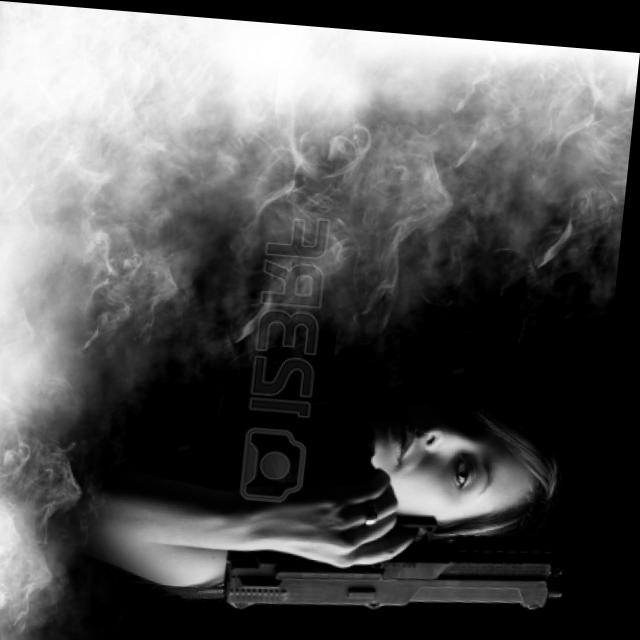handgun: (232, 437, 592, 628)
